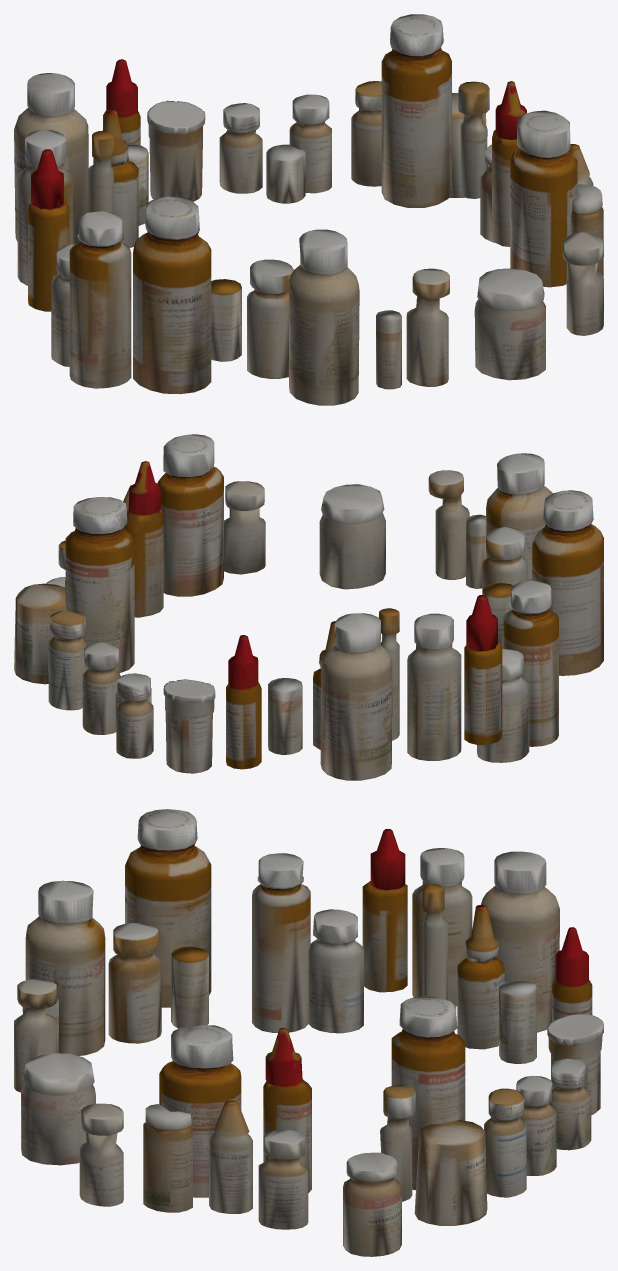
The model's file is Many Meds.fbx.
3 views of the same model, one above another, from view 1: azimuth 30°, elevation 25°; view 2: azimuth 150°, elevation 25°; view 3: azimuth 270°, elevation 25° (orthographic). The views are drawn at different scales.
Parts seen in each view (by area): view 1: tripo_node_25c2cbbb-61e0-4ecc-bb99-bf7796fdbbcc, tripo_node_25c2cbbb-61e0-4ecc-bb99-bf7796fdbbcc.017, tripo_node_25c2cbbb-61e0-4ecc-bb99-bf7796fdbbcc.016, tripo_node_25c2cbbb-61e0-4ecc-bb99-bf7796fdbbcc.009, tripo_node_25c2cbbb-61e0-4ecc-bb99-bf7796fdbbcc.013, tripo_node_25c2cbbb-61e0-4ecc-bb99-bf7796fdbbcc.010, tripo_node_25c2cbbb-61e0-4ecc-bb99-bf7796fdbbcc.023, tripo_node_25c2cbbb-61e0-4ecc-bb99-bf7796fdbbcc.021, tripo_node_25c2cbbb-61e0-4ecc-bb99-bf7796fdbbcc.002, tripo_node_25c2cbbb-61e0-4ecc-bb99-bf7796fdbbcc.014, tripo_node_25c2cbbb-61e0-4ecc-bb99-bf7796fdbbcc.011, tripo_node_25c2cbbb-61e0-4ecc-bb99-bf7796fdbbcc.008 (+10 smaller); view 2: tripo_node_25c2cbbb-61e0-4ecc-bb99-bf7796fdbbcc.017, tripo_node_25c2cbbb-61e0-4ecc-bb99-bf7796fdbbcc, tripo_node_25c2cbbb-61e0-4ecc-bb99-bf7796fdbbcc.023, tripo_node_25c2cbbb-61e0-4ecc-bb99-bf7796fdbbcc.016, tripo_node_25c2cbbb-61e0-4ecc-bb99-bf7796fdbbcc.009, tripo_node_25c2cbbb-61e0-4ecc-bb99-bf7796fdbbcc.018, tripo_node_25c2cbbb-61e0-4ecc-bb99-bf7796fdbbcc.010, tripo_node_25c2cbbb-61e0-4ecc-bb99-bf7796fdbbcc.007, tripo_node_25c2cbbb-61e0-4ecc-bb99-bf7796fdbbcc.013, tripo_node_25c2cbbb-61e0-4ecc-bb99-bf7796fdbbcc.002, tripo_node_25c2cbbb-61e0-4ecc-bb99-bf7796fdbbcc.001, tripo_node_25c2cbbb-61e0-4ecc-bb99-bf7796fdbbcc.008 (+10 smaller); view 3: tripo_node_25c2cbbb-61e0-4ecc-bb99-bf7796fdbbcc, tripo_node_25c2cbbb-61e0-4ecc-bb99-bf7796fdbbcc.017, tripo_node_25c2cbbb-61e0-4ecc-bb99-bf7796fdbbcc.009, tripo_node_25c2cbbb-61e0-4ecc-bb99-bf7796fdbbcc.016, tripo_node_25c2cbbb-61e0-4ecc-bb99-bf7796fdbbcc.013, tripo_node_25c2cbbb-61e0-4ecc-bb99-bf7796fdbbcc.023, tripo_node_25c2cbbb-61e0-4ecc-bb99-bf7796fdbbcc.010, tripo_node_25c2cbbb-61e0-4ecc-bb99-bf7796fdbbcc.014, tripo_node_25c2cbbb-61e0-4ecc-bb99-bf7796fdbbcc.018, tripo_node_25c2cbbb-61e0-4ecc-bb99-bf7796fdbbcc.022, tripo_node_25c2cbbb-61e0-4ecc-bb99-bf7796fdbbcc.005, tripo_node_25c2cbbb-61e0-4ecc-bb99-bf7796fdbbcc.007 (+11 smaller).
Part boxes in pixels (bbox=[...]): tripo_node_25c2cbbb-61e0-4ecc-bb99-bf7796fdbbcc: bbox=[381, 14, 494, 242]; tripo_node_25c2cbbb-61e0-4ecc-bb99-bf7796fdbbcc.017: bbox=[28, 149, 131, 388]; tripo_node_25c2cbbb-61e0-4ecc-bb99-bf7796fdbbcc.016: bbox=[133, 196, 211, 394]; tripo_node_25c2cbbb-61e0-4ecc-bb99-bf7796fdbbcc.009: bbox=[510, 110, 603, 287]; tripo_node_25c2cbbb-61e0-4ecc-bb99-bf7796fdbbcc.013: bbox=[289, 229, 359, 405]; tripo_node_25c2cbbb-61e0-4ecc-bb99-bf7796fdbbcc.010: bbox=[474, 268, 545, 380]; tripo_node_25c2cbbb-61e0-4ecc-bb99-bf7796fdbbcc.023: bbox=[14, 73, 88, 244]; tripo_node_25c2cbbb-61e0-4ecc-bb99-bf7796fdbbcc.021: bbox=[266, 94, 331, 203]; tripo_node_25c2cbbb-61e0-4ecc-bb99-bf7796fdbbcc.002: bbox=[147, 100, 205, 201]; tripo_node_25c2cbbb-61e0-4ecc-bb99-bf7796fdbbcc.014: bbox=[247, 259, 293, 378]; tripo_node_25c2cbbb-61e0-4ecc-bb99-bf7796fdbbcc.011: bbox=[406, 268, 449, 386]; tripo_node_25c2cbbb-61e0-4ecc-bb99-bf7796fdbbcc.008: bbox=[562, 232, 603, 335]; tripo_node_25c2cbbb-61e0-4ecc-bb99-bf7796fdbbcc.017: bbox=[464, 580, 558, 762]; tripo_node_25c2cbbb-61e0-4ecc-bb99-bf7796fdbbcc: bbox=[14, 497, 134, 684]; tripo_node_25c2cbbb-61e0-4ecc-bb99-bf7796fdbbcc.023: bbox=[320, 613, 392, 780]; tripo_node_25c2cbbb-61e0-4ecc-bb99-bf7796fdbbcc.016: bbox=[532, 490, 603, 675]; tripo_node_25c2cbbb-61e0-4ecc-bb99-bf7796fdbbcc.009: bbox=[157, 434, 223, 596]; tripo_node_25c2cbbb-61e0-4ecc-bb99-bf7796fdbbcc.018: bbox=[407, 613, 461, 760]; tripo_node_25c2cbbb-61e0-4ecc-bb99-bf7796fdbbcc.010: bbox=[319, 484, 385, 589]; tripo_node_25c2cbbb-61e0-4ecc-bb99-bf7796fdbbcc.007: bbox=[124, 461, 163, 617]; tripo_node_25c2cbbb-61e0-4ecc-bb99-bf7796fdbbcc.013: bbox=[486, 453, 552, 580]; tripo_node_25c2cbbb-61e0-4ecc-bb99-bf7796fdbbcc.002: bbox=[163, 679, 215, 773]; tripo_node_25c2cbbb-61e0-4ecc-bb99-bf7796fdbbcc.001: bbox=[226, 635, 261, 769]; tripo_node_25c2cbbb-61e0-4ecc-bb99-bf7796fdbbcc.008: bbox=[224, 481, 265, 574]; tripo_node_25c2cbbb-61e0-4ecc-bb99-bf7796fdbbcc: bbox=[343, 996, 487, 1256]; tripo_node_25c2cbbb-61e0-4ecc-bb99-bf7796fdbbcc.017: bbox=[252, 829, 407, 1033]; tripo_node_25c2cbbb-61e0-4ecc-bb99-bf7796fdbbcc.009: bbox=[143, 1025, 241, 1212]; tripo_node_25c2cbbb-61e0-4ecc-bb99-bf7796fdbbcc.016: bbox=[125, 809, 211, 1007]; tripo_node_25c2cbbb-61e0-4ecc-bb99-bf7796fdbbcc.013: bbox=[25, 880, 105, 1055]; tripo_node_25c2cbbb-61e0-4ecc-bb99-bf7796fdbbcc.023: bbox=[481, 851, 559, 1032]; tripo_node_25c2cbbb-61e0-4ecc-bb99-bf7796fdbbcc.010: bbox=[21, 1053, 95, 1165]; tripo_node_25c2cbbb-61e0-4ecc-bb99-bf7796fdbbcc.014: bbox=[108, 923, 161, 1043]; tripo_node_25c2cbbb-61e0-4ecc-bb99-bf7796fdbbcc.018: bbox=[412, 848, 472, 1006]; tripo_node_25c2cbbb-61e0-4ecc-bb99-bf7796fdbbcc.022: bbox=[457, 905, 504, 1049]; tripo_node_25c2cbbb-61e0-4ecc-bb99-bf7796fdbbcc.005: bbox=[258, 1130, 308, 1229]; tripo_node_25c2cbbb-61e0-4ecc-bb99-bf7796fdbbcc.007: bbox=[263, 1027, 311, 1192].
Bounding box in the file's own units: 99.8 × 38.87 × 99.8.
Materials: 1 (1 with a texture image).
